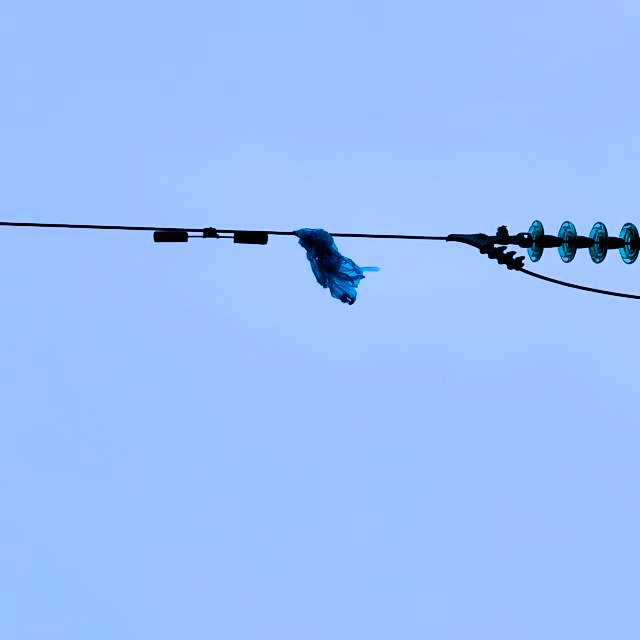wire foreign body: (283, 223, 376, 307)
